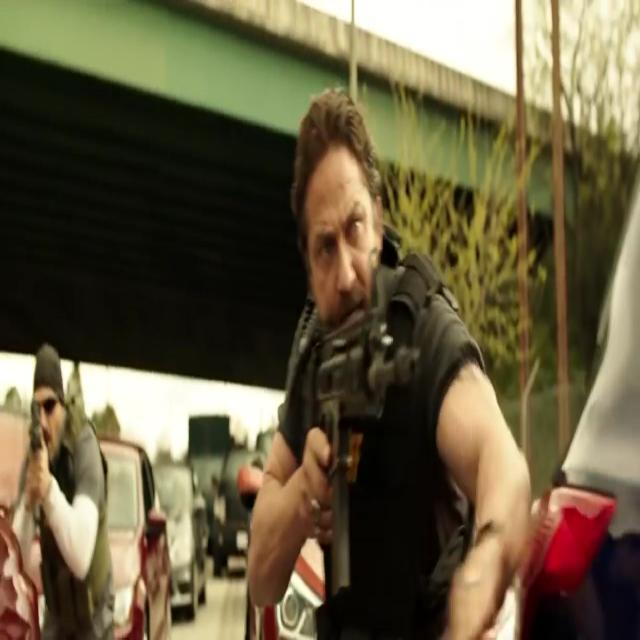Weapon: (277, 340, 414, 581), (22, 358, 50, 464)
